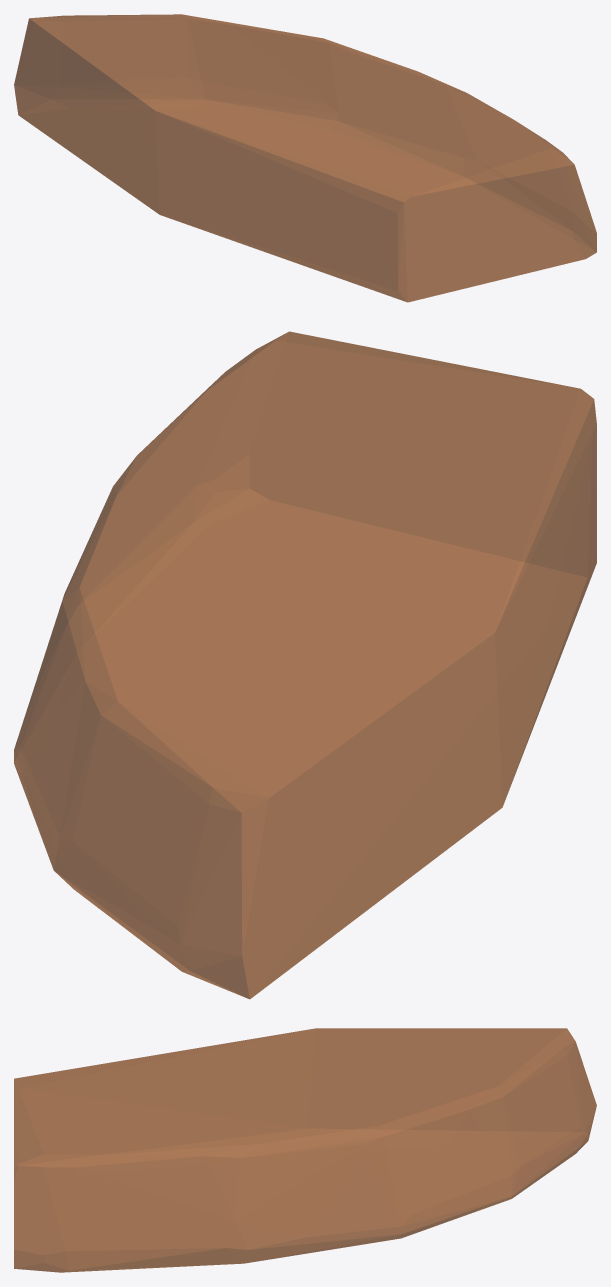
3 renders of one model, top to bottom at view 1: azimuth 30°, elevation 25°; view 2: azimuth 150°, elevation 25°; view 3: azimuth 270°, elevation 25°, orthographic. The views are drawn at different scales.
Parts seen in each view (by area): view 1: Shape_IndexedFaceSet.005_Shape_IndexedFaceSet.1227; view 2: Shape_IndexedFaceSet.005_Shape_IndexedFaceSet.1227; view 3: Shape_IndexedFaceSet.005_Shape_IndexedFaceSet.1227.
Part boxes in pixels (x1,y1,x2,y2): Shape_IndexedFaceSet.005_Shape_IndexedFaceSet.1227: (14, 14, 596, 302); Shape_IndexedFaceSet.005_Shape_IndexedFaceSet.1227: (14, 331, 596, 999); Shape_IndexedFaceSet.005_Shape_IndexedFaceSet.1227: (14, 1028, 596, 1272).
Size of the model in its own units: 0.1574 by 0.0538 by 0.2729.
